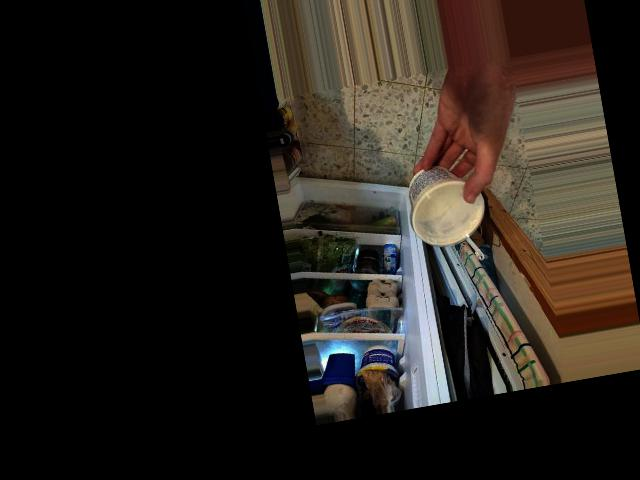cotage: (406, 161, 486, 257)
